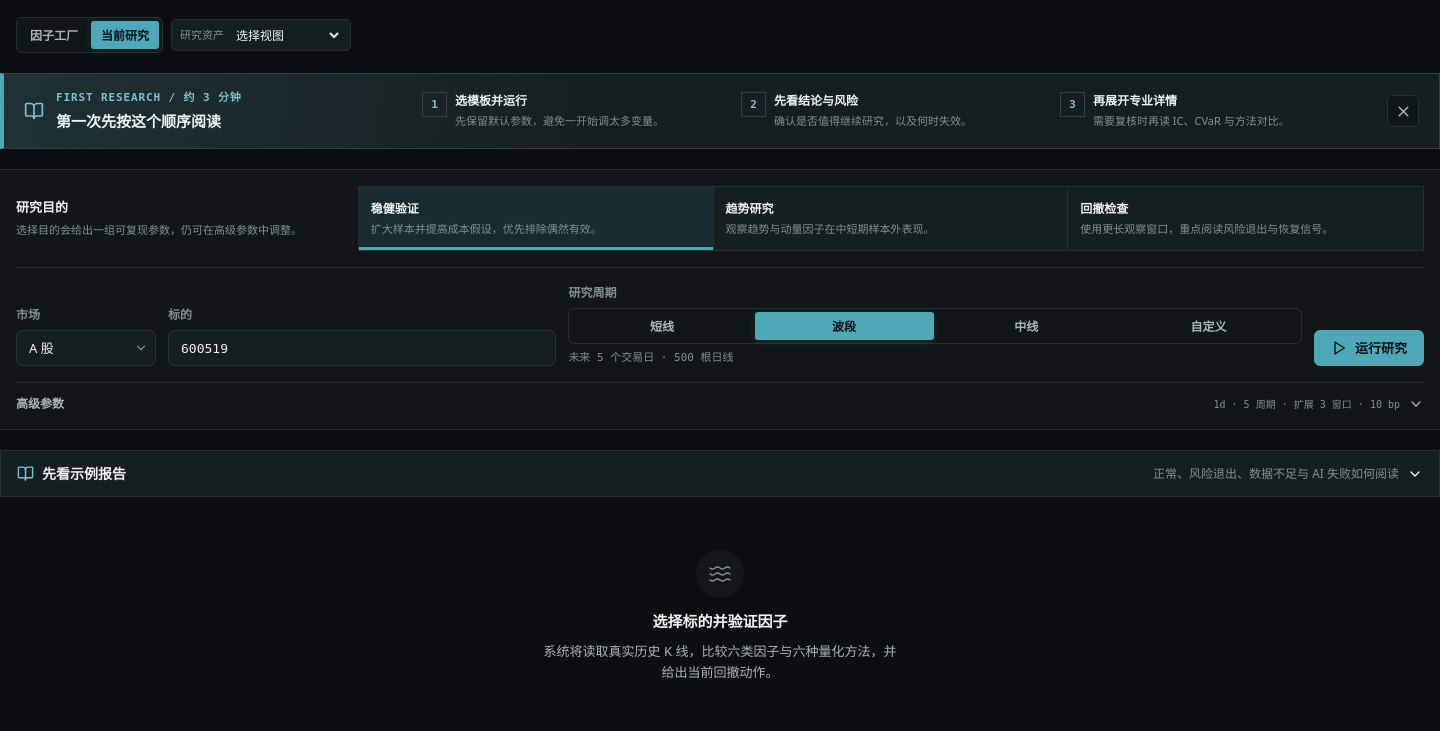
Test case: FactorResearchPage › compares the current saved run with the previous research snapshot
The image size is (1440, 731).
Click the button "运行研究": (1369, 348) [1314,330,1424,366]
(page scrolled)
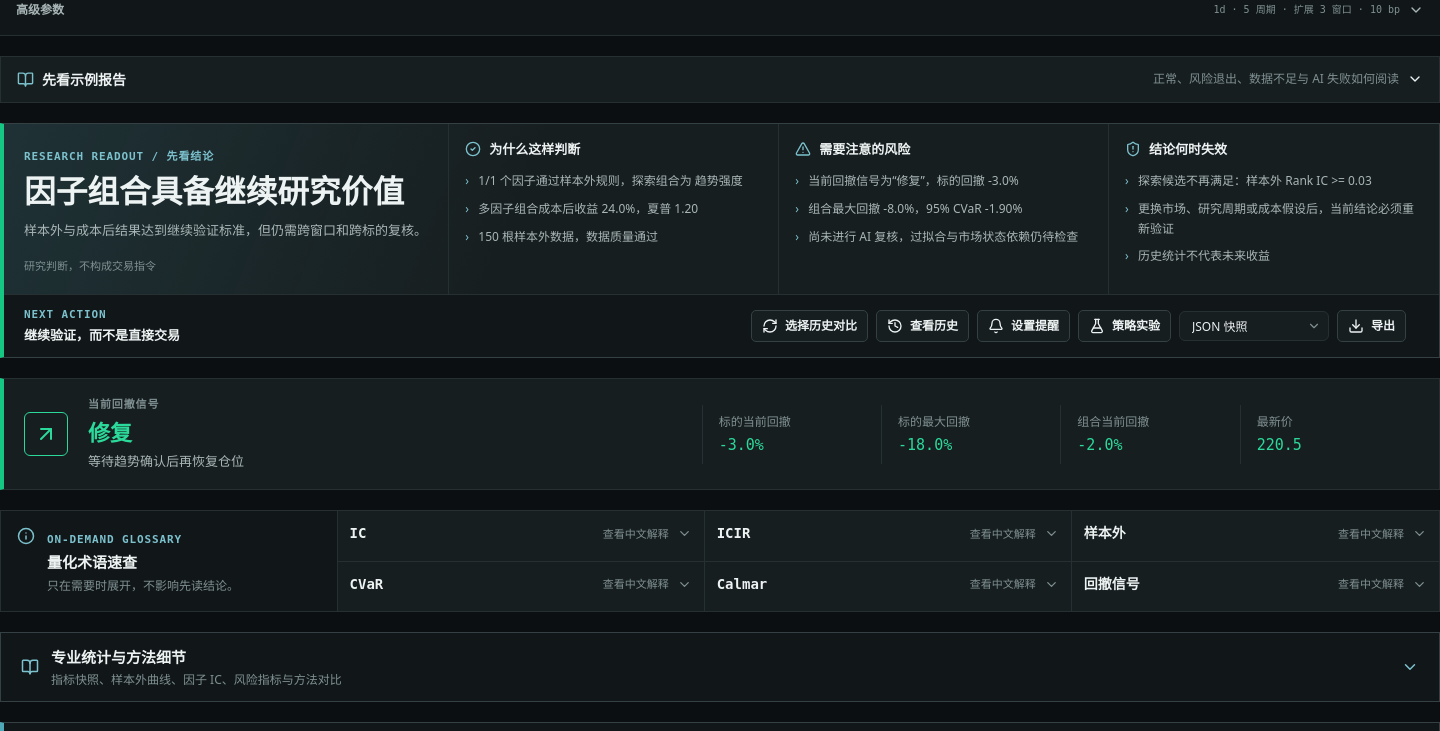
Now the heading "因子组合具备继续研究价值" is shown, box [24,173,428,208]
Click the button "选择历史对比": (809, 326) [751,310,868,342]
(page scrolled)
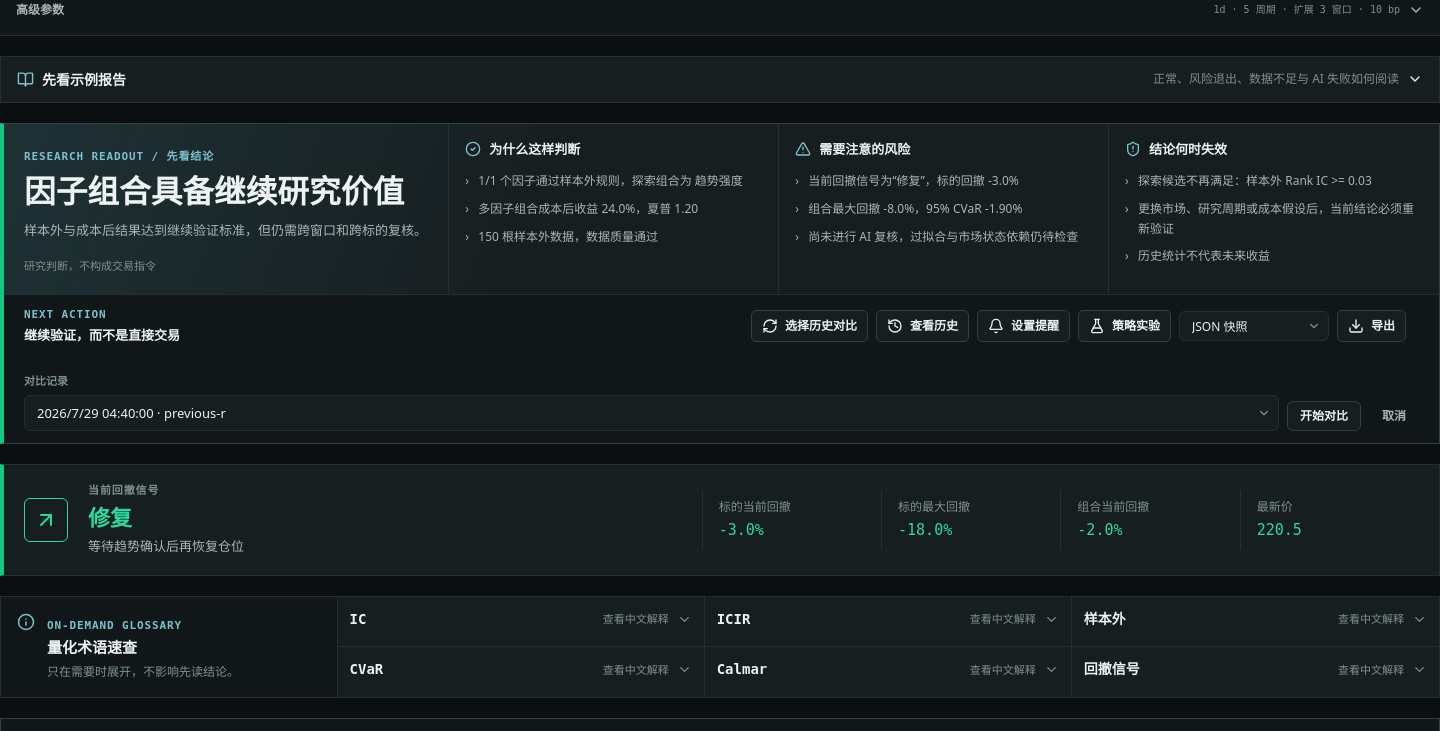
Now the dropdown labelled "对比记录" is shown, box [24,395,1279,431]
Click the button "开始对比": (1324, 416) [1287,401,1361,431]
(page scrolled)
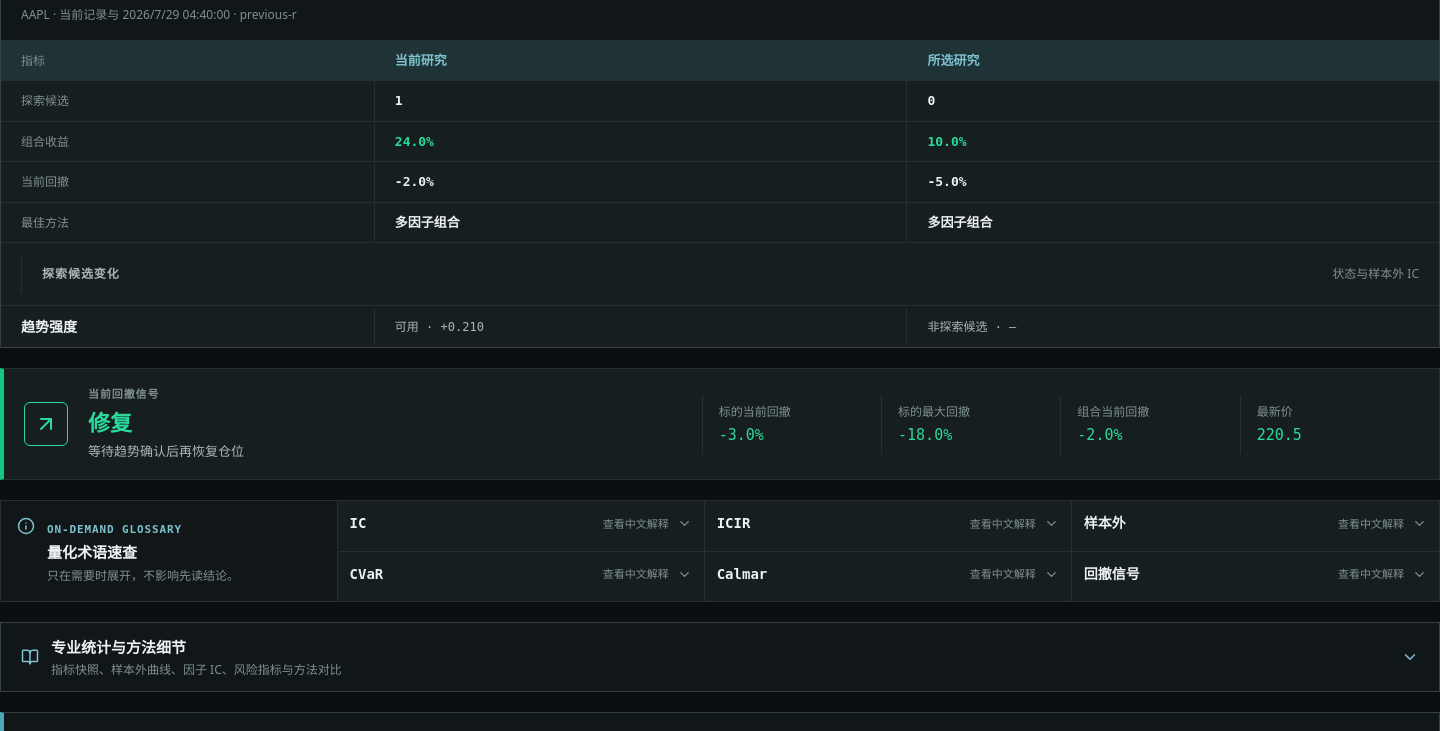
Now the text "所选研究" is shown, box [906,41,1439,80]
Now the text "10.0%" is shown, box [906,122,1439,161]
Now the text "可用 · +0.210" is shown, box [374,308,906,346]
